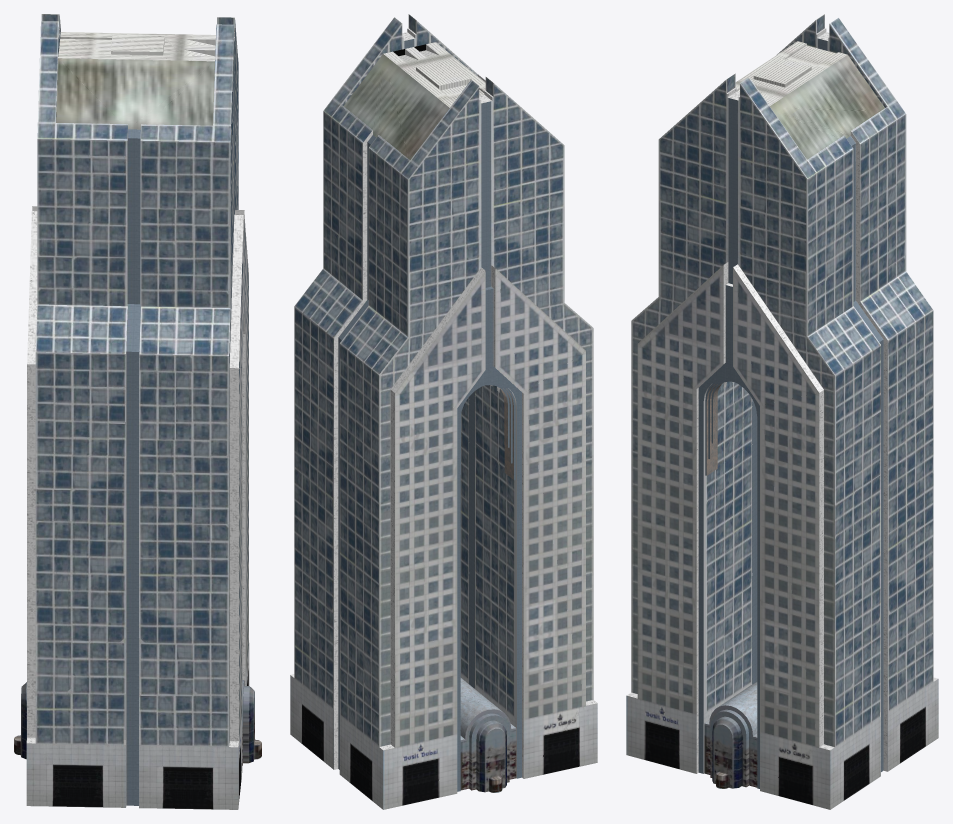
File: Dusit-Dubai,-Dubai,-UAE.dae
3 renders of one model, left to right at view 1: azimuth 30°, elevation 25°; view 2: azimuth 150°, elevation 25°; view 3: azimuth 270°, elevation 25°, orthographic. The views are drawn at different scales.
Visible parts, largest first — view 1: SketchUp (×13); view 2: SketchUp (×15); view 3: SketchUp (×16).
Part boxes in pixels (x1,y1,x2,y2): SketchUp (×13): (14, 17, 261, 809); SketchUp (×15): (290, 14, 597, 809); SketchUp (×16): (626, 14, 938, 809).
Size of the model in its own units: 2344 by 2440 by 6024.
